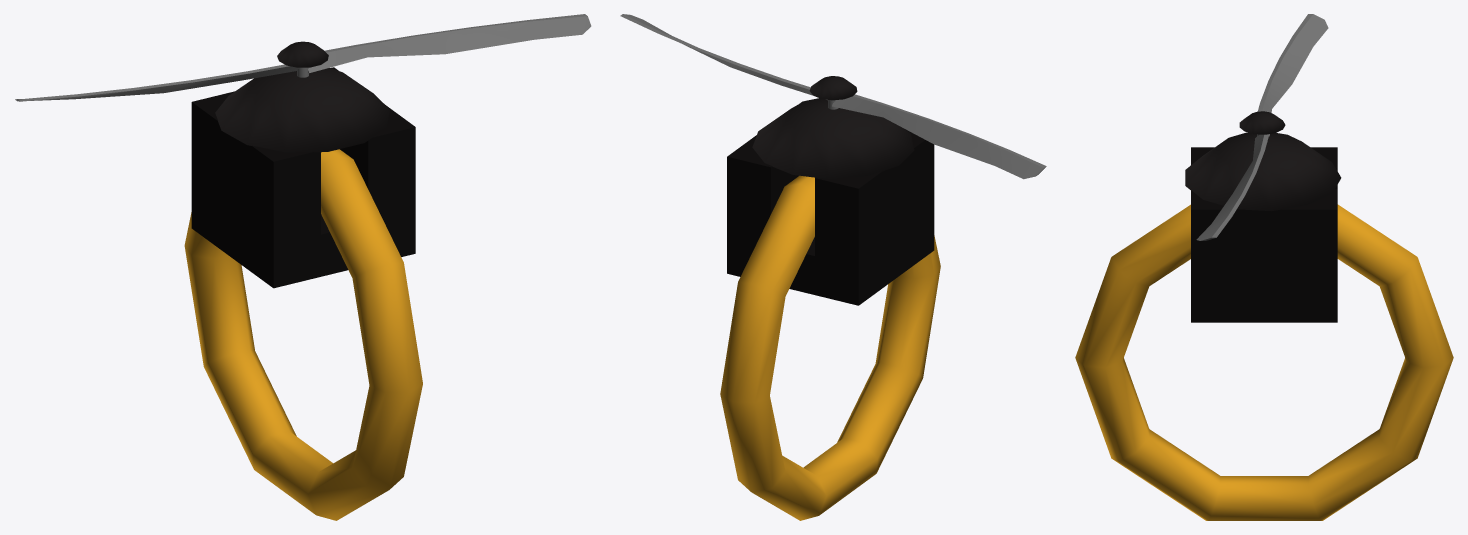
The model's file is DNUy4wallRing.fbx.
3 views of the same model, side by side, from view 1: azimuth 30°, elevation 25°; view 2: azimuth 150°, elevation 25°; view 3: azimuth 270°, elevation 25° (orthographic). The views are drawn at different scales.
Parts seen in each view (by area): view 1: Torus001, Cylinder001; view 2: Torus001, Cylinder001; view 3: Torus001, Cylinder001.
Part boxes in pixels (x1,y1,x2,y2): Torus001: [184, 41, 422, 520]; Cylinder001: [15, 14, 591, 101]; Torus001: [720, 76, 940, 520]; Cylinder001: [620, 14, 1046, 179]; Torus001: [1075, 111, 1453, 520]; Cylinder001: [1196, 14, 1328, 240].
Bounding box in the file's own units: 25.34 × 21.44 × 18.11.
